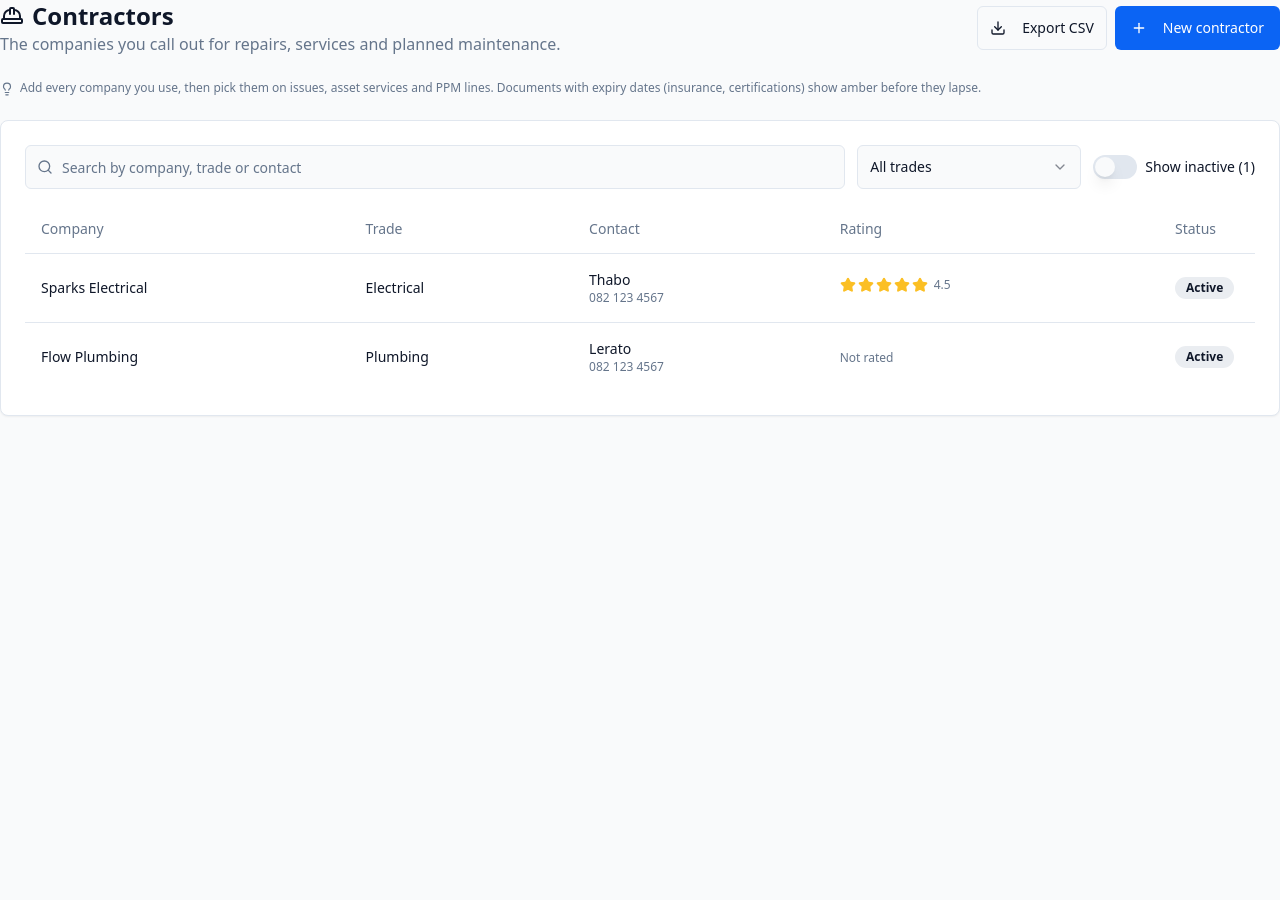
Scenario: ContractorDialog through the page › refuses to save without a company name and shows a write failure inline
The width and height of the screenshot is (1280, 900).
Click the button "New contractor".
click(1197, 28)  # box [1115,6,1279,50]
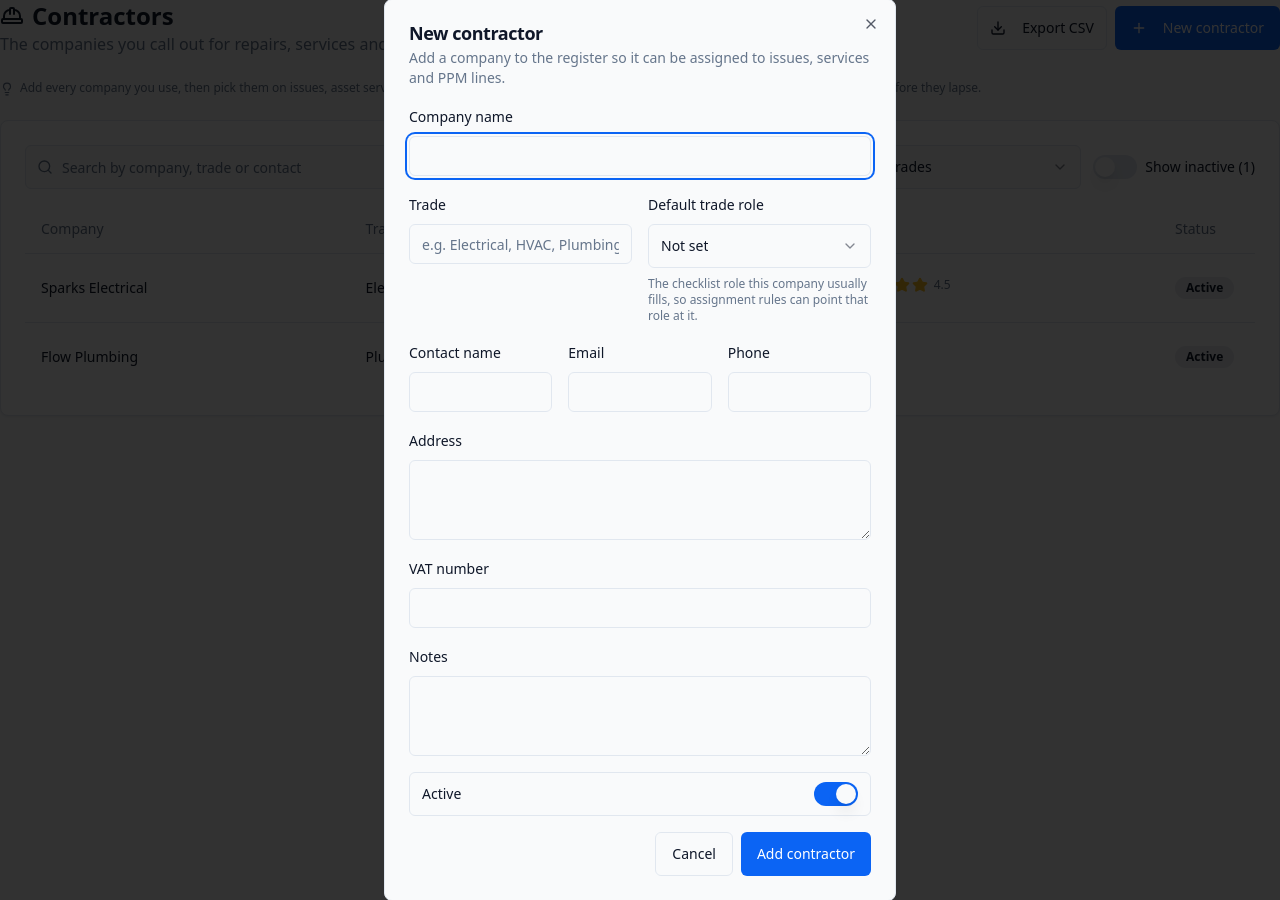
Click the button "Add contractor".
click(806, 854)  # box [741,832,871,876]
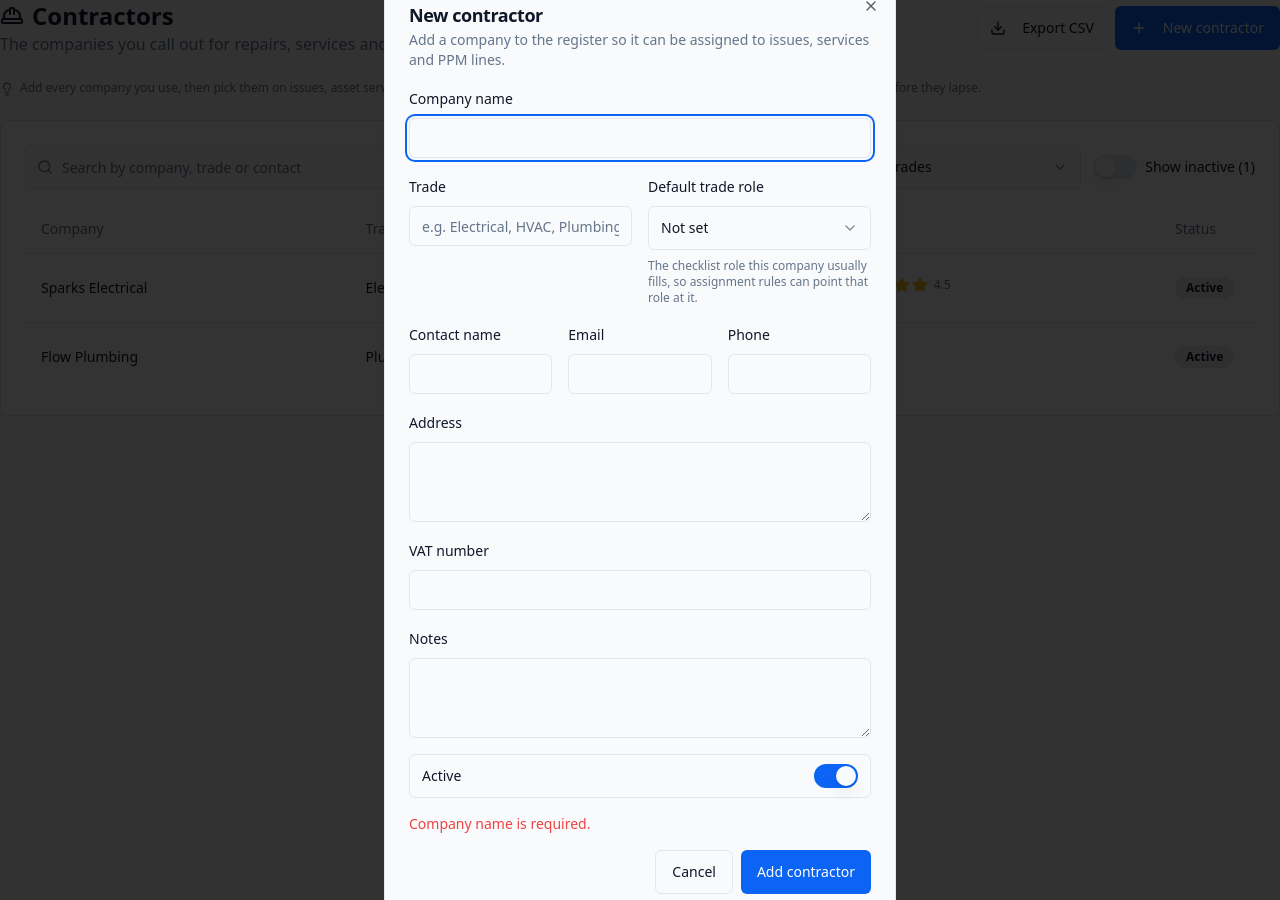
Expected: the message reads "Company name is required.", [409,814,590,833]
Type "X" into the field labelled "Company name".
click(640, 138); type("X")  # box [409,118,871,158]
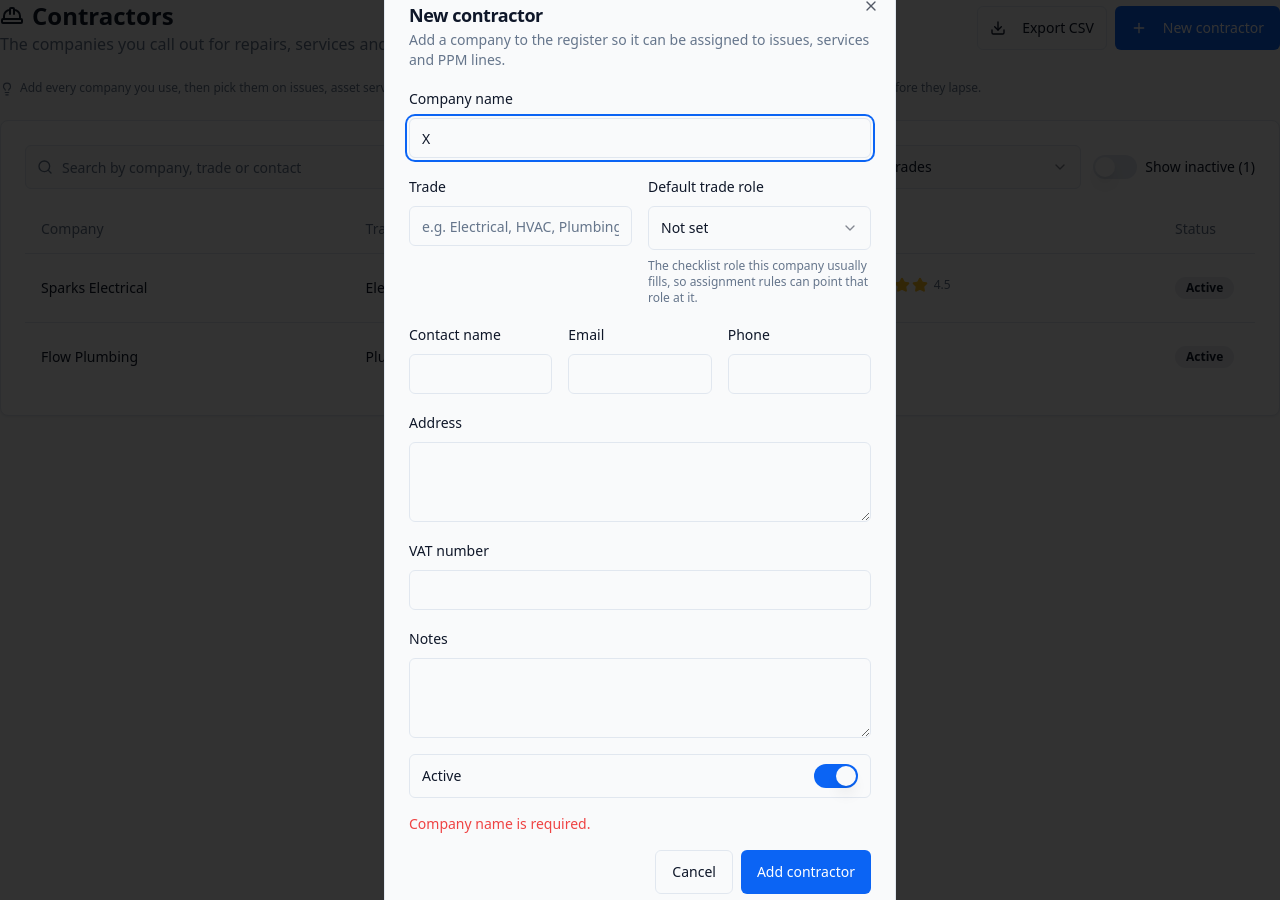
Click the button "Add contractor".
click(806, 872)  # box [741,850,871,894]
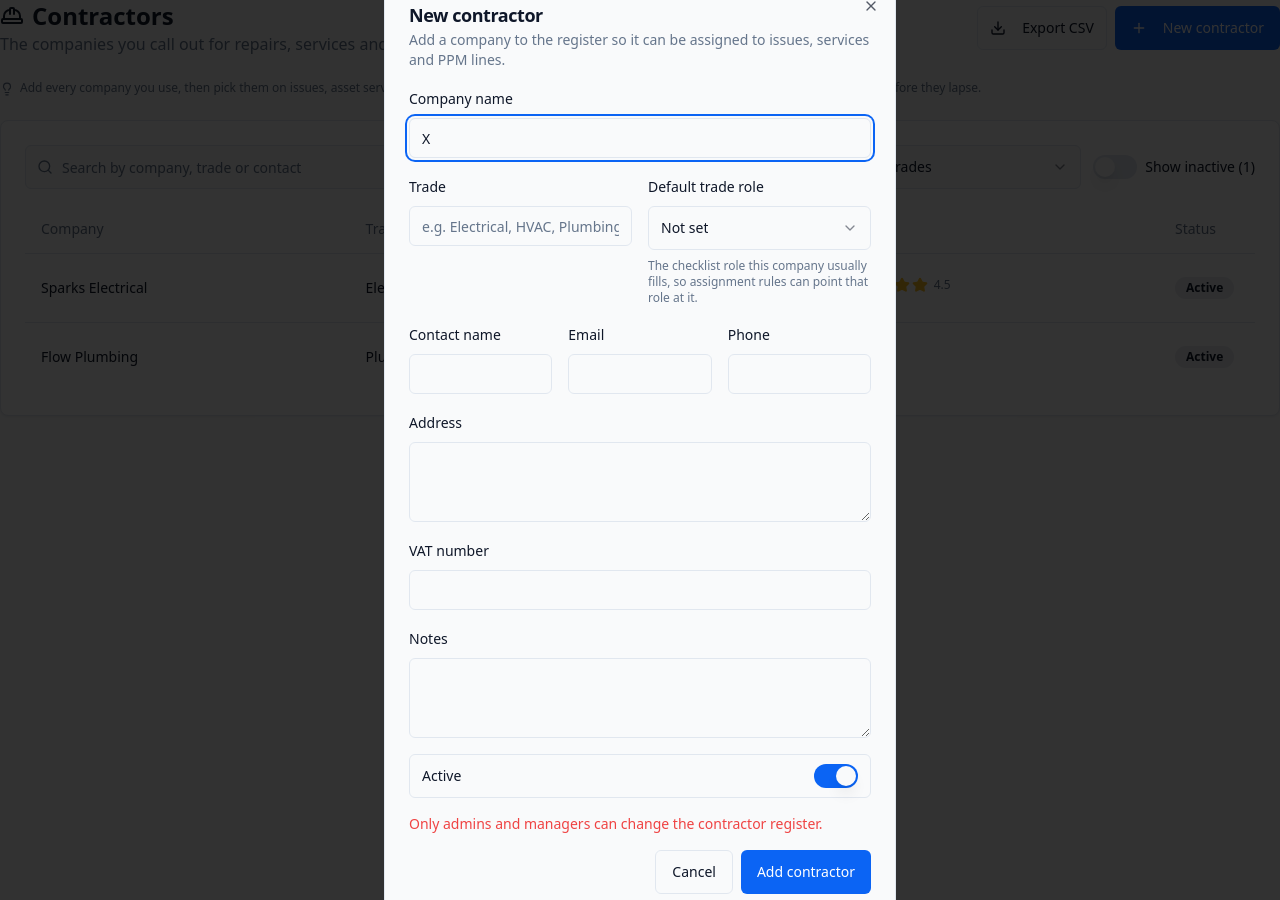
Expected: the message reads "Only admins and managers can change the contractor register.", [409,814,823,833]
